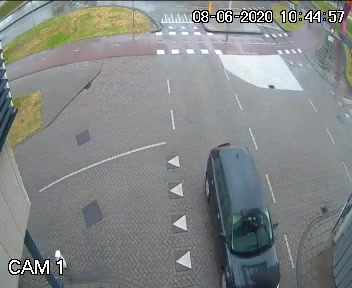car: (196, 137, 284, 288)
